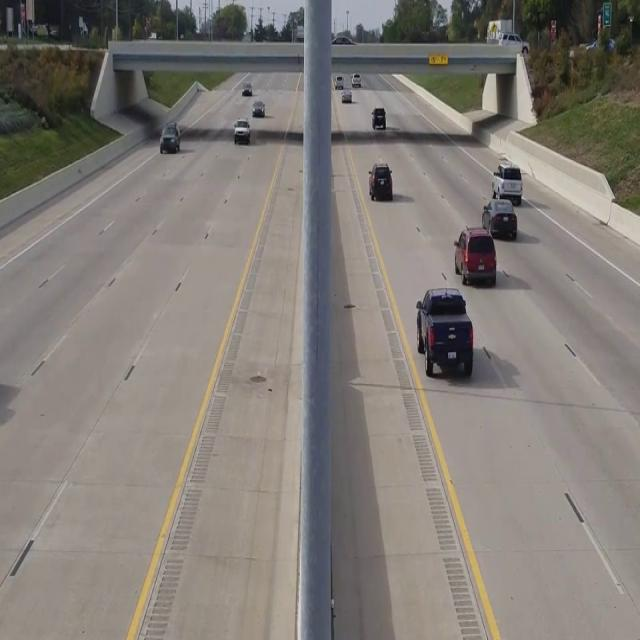car: (416, 287, 474, 378), (453, 226, 496, 286), (368, 162, 392, 200), (159, 120, 180, 153), (233, 118, 250, 144), (372, 107, 386, 128)
